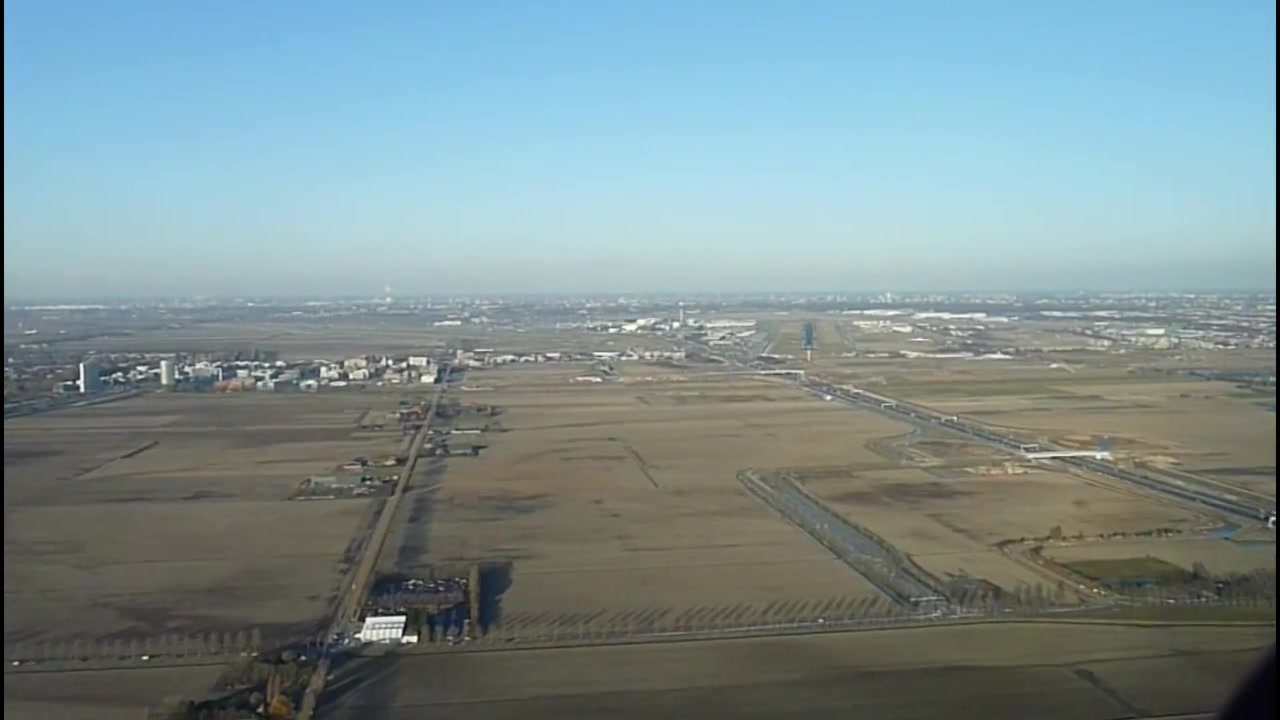runway: (800, 320, 817, 351)
